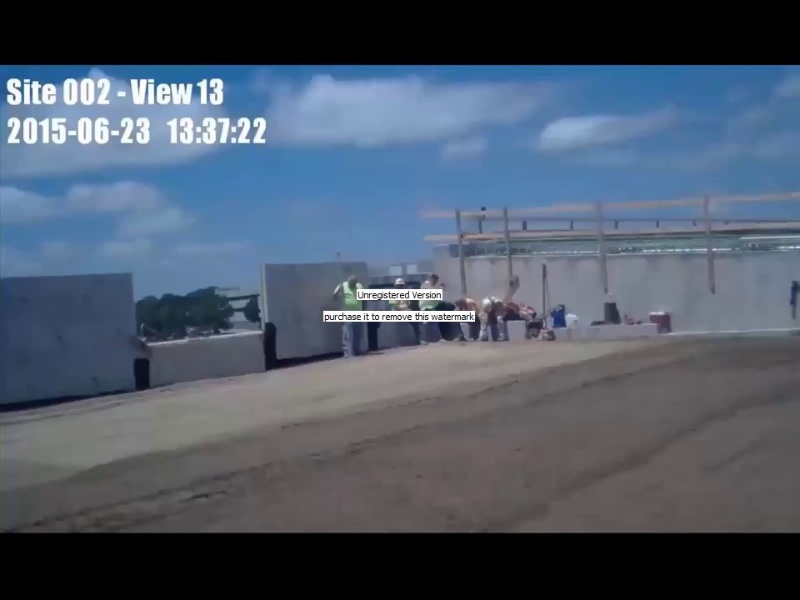hardhat: (481, 298, 493, 312), (393, 277, 406, 286)
person: (475, 296, 510, 343)
wall: (1, 260, 320, 409)
wood: (421, 190, 800, 251)
